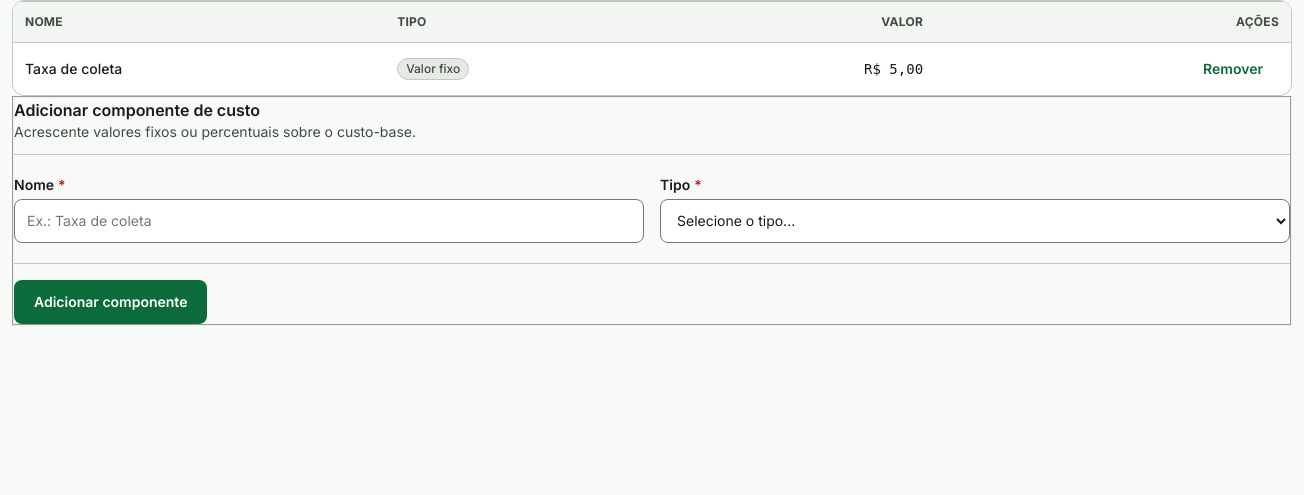
Test case: Component editor type-dependent fields (UI-FORM05) › UI-FORM05c: fixed without amount shows error
This screenshot has width=1304, height=495.
Type "Logística" into the field labelled "Nome*". click: x=329, y=220
box: top-left (14, 198), bottom-right (644, 242)
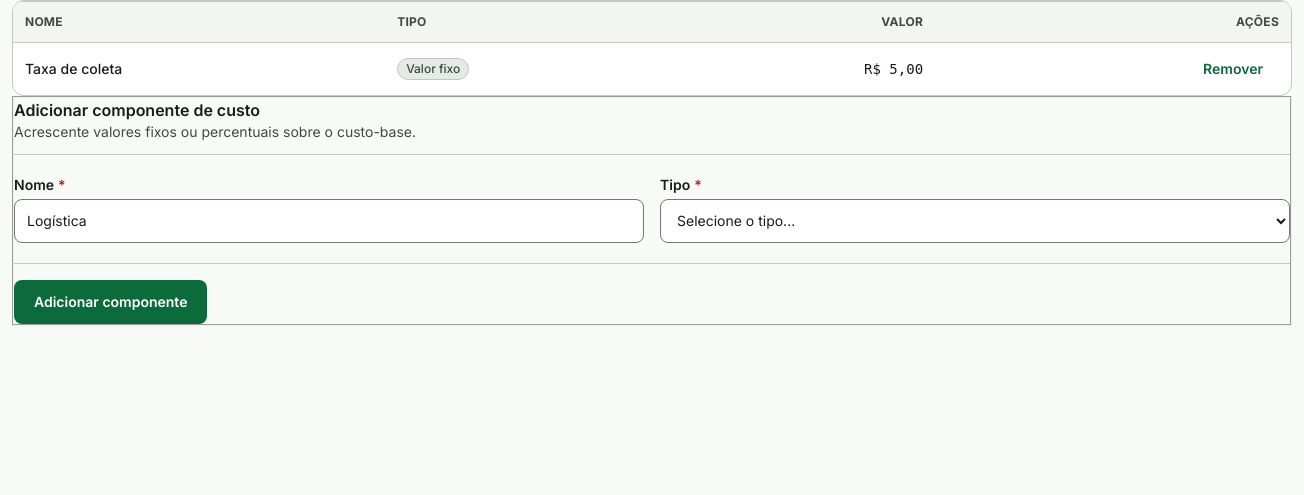
Select "Valor fixo" in the dropdown labelled "Tipo*". click: x=975, y=220
box: top-left (660, 198), bottom-right (1290, 242)
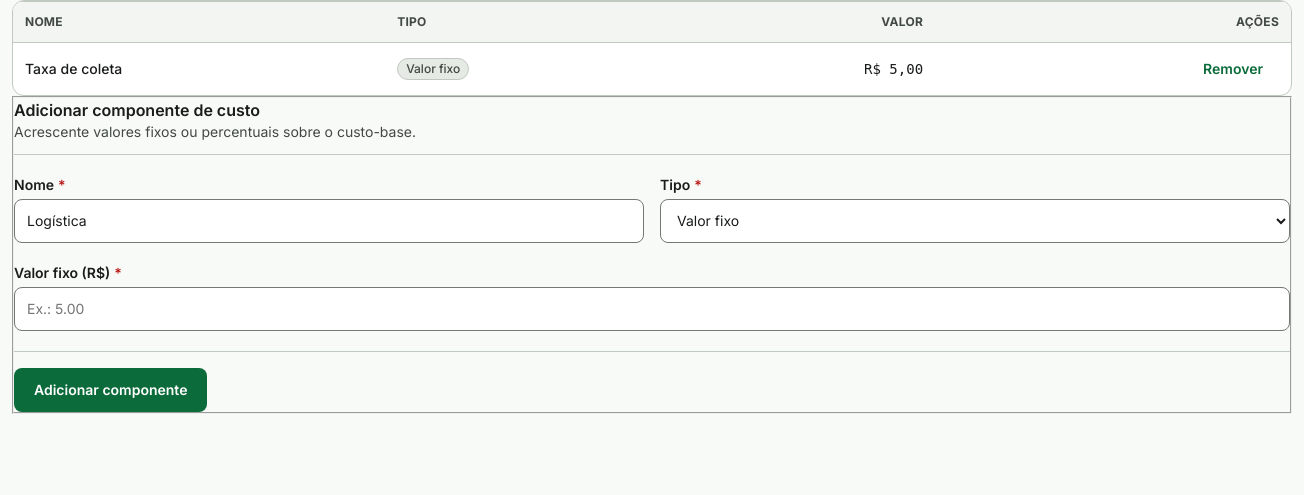
Click the button "Adicionar componente". click: x=111, y=390
box: top-left (14, 368), bottom-right (208, 412)
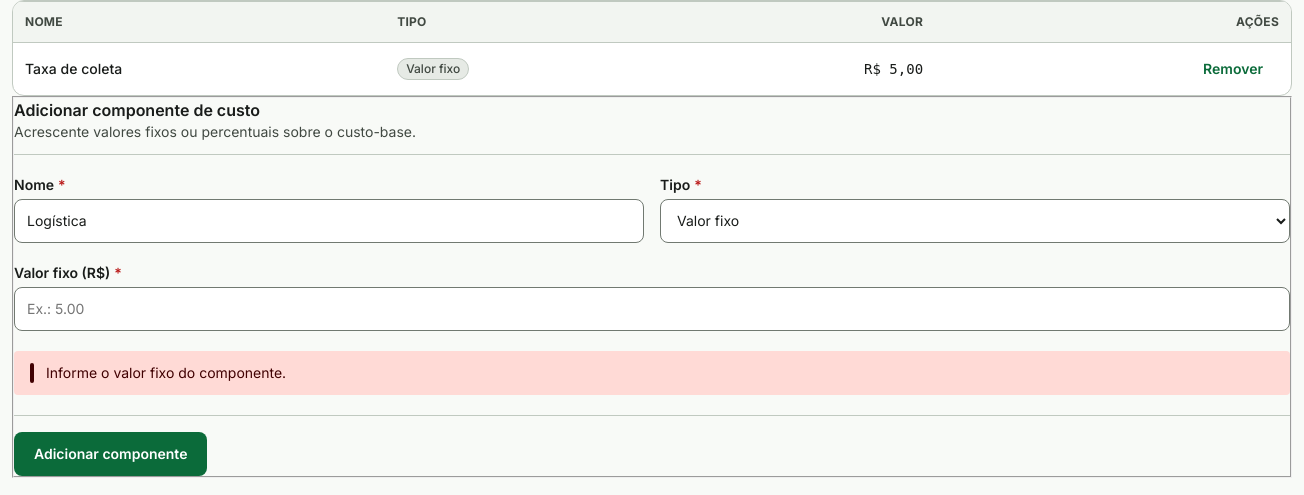
Check: the text "Informe o valor fixo do componente." is shown, box top-left (46, 364), bottom-right (286, 380)
